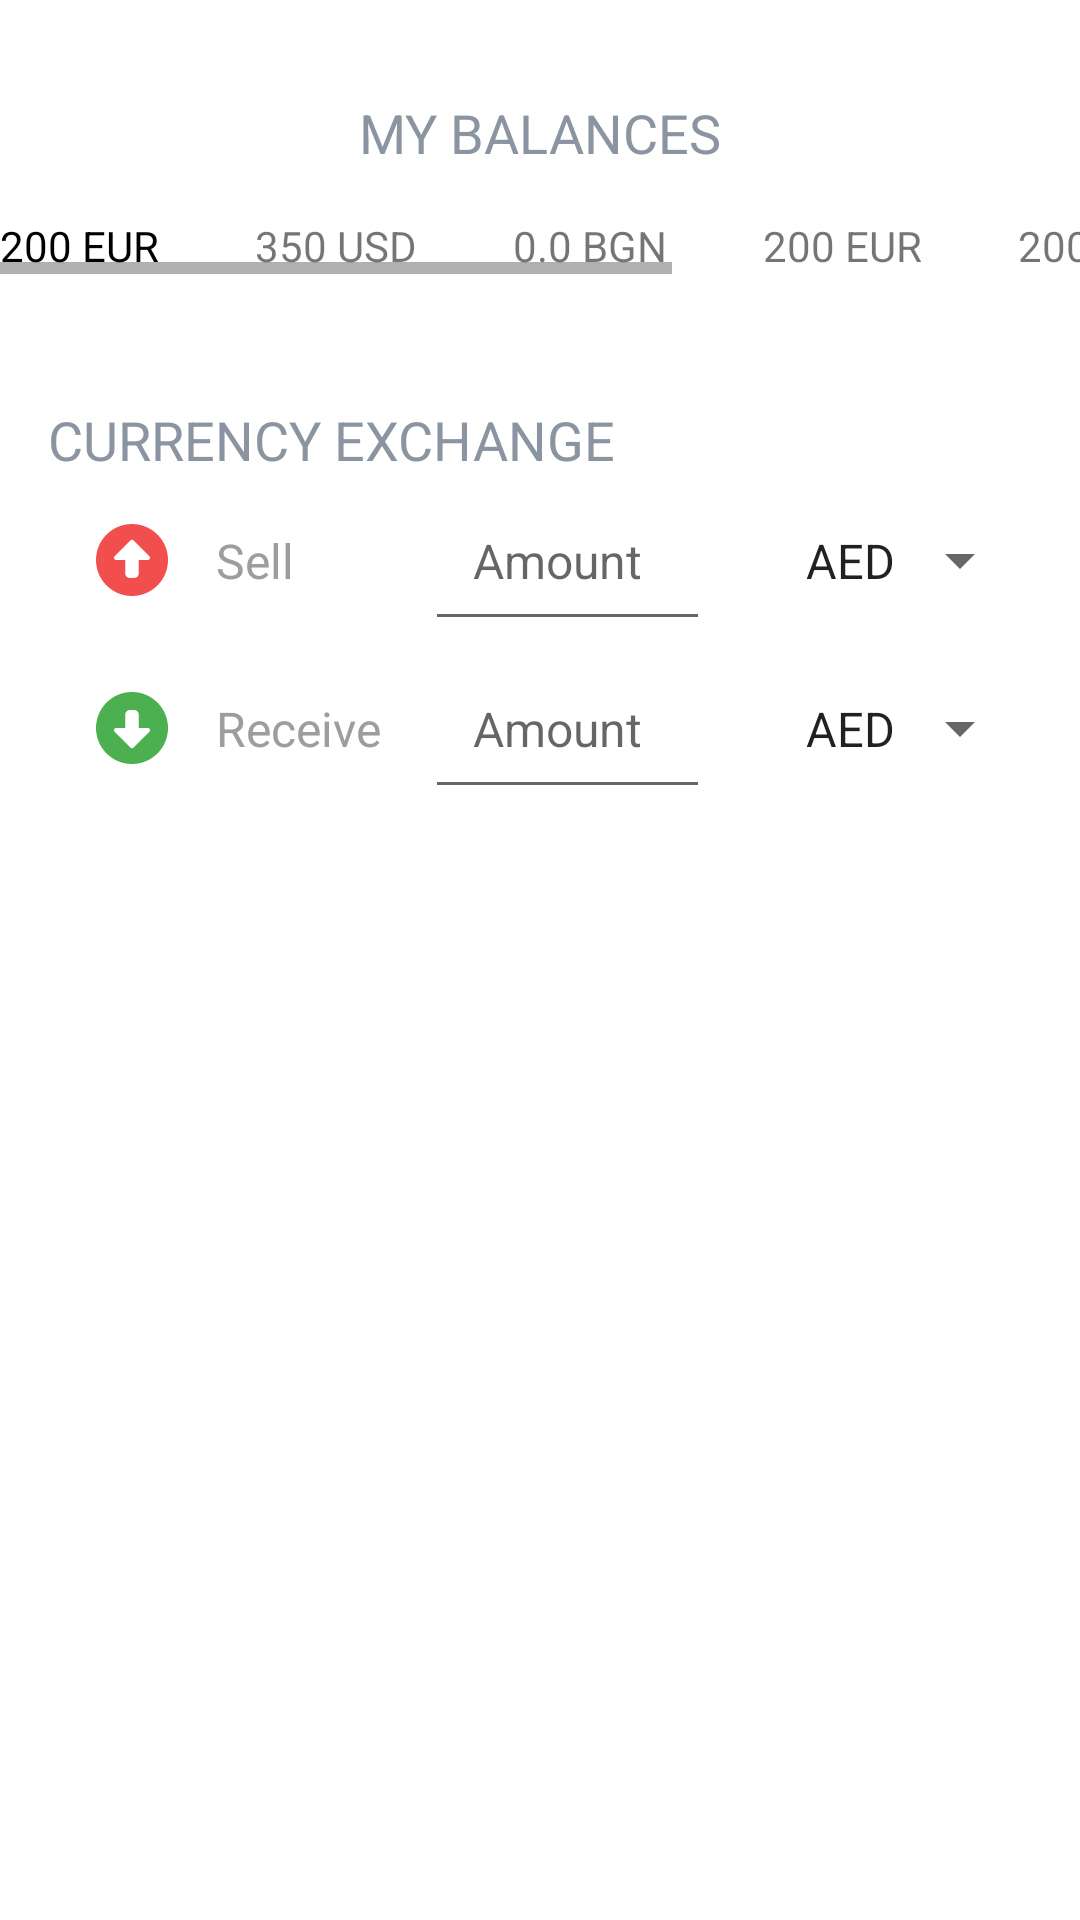

Where to tap for icons on this 1080 x 1920 app screen, as point (x, y):
circle down: point (132, 728)
circle up: point (132, 560)
